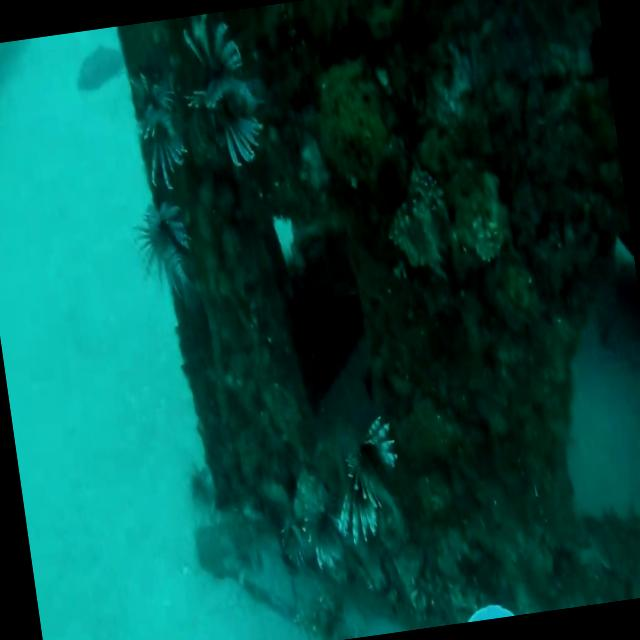Aslan Baligi: (174, 6, 278, 177), (316, 392, 412, 553), (122, 49, 190, 191)
